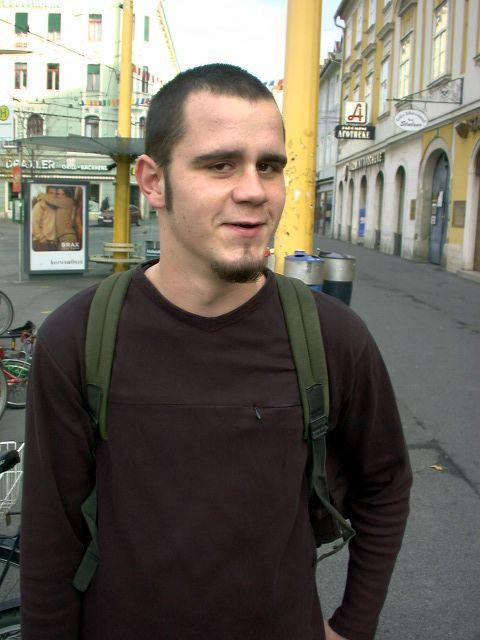Person: (34, 60, 409, 640)
